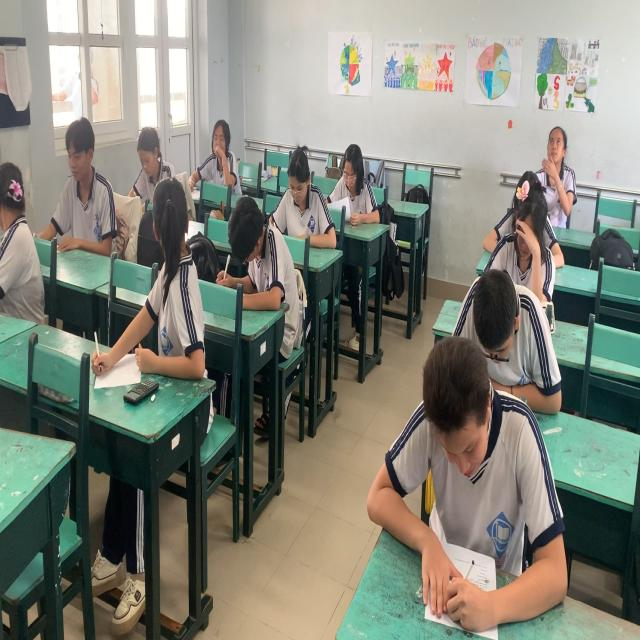cheating: (138, 184, 204, 364), (2, 164, 49, 323)
not_cheating: (403, 364, 525, 614), (62, 109, 116, 268), (212, 189, 280, 291), (276, 143, 338, 243), (500, 198, 554, 288), (475, 286, 521, 376), (199, 120, 247, 192), (338, 143, 374, 233), (127, 126, 163, 188), (547, 120, 572, 202)
